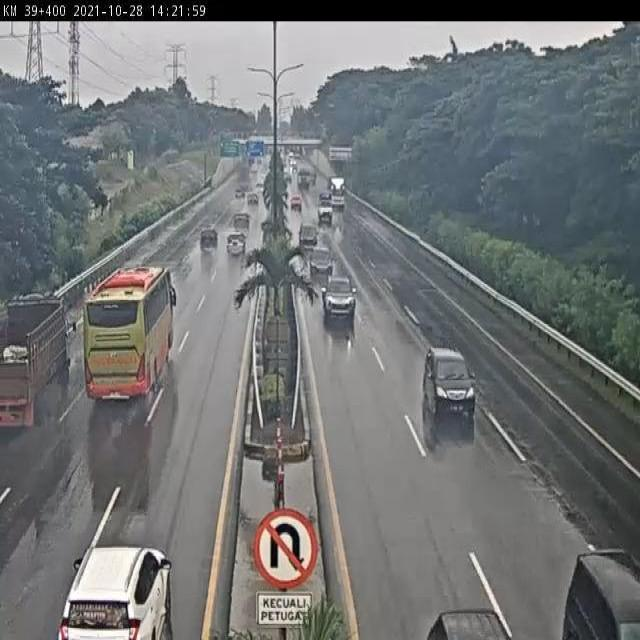big bus: (83, 269, 174, 404)
car: (57, 545, 172, 640), (420, 345, 476, 419), (321, 276, 359, 317), (310, 245, 333, 279), (226, 229, 248, 259), (298, 222, 321, 250), (197, 227, 220, 252), (231, 208, 252, 231)
truck-m-: (0, 302, 71, 434)
